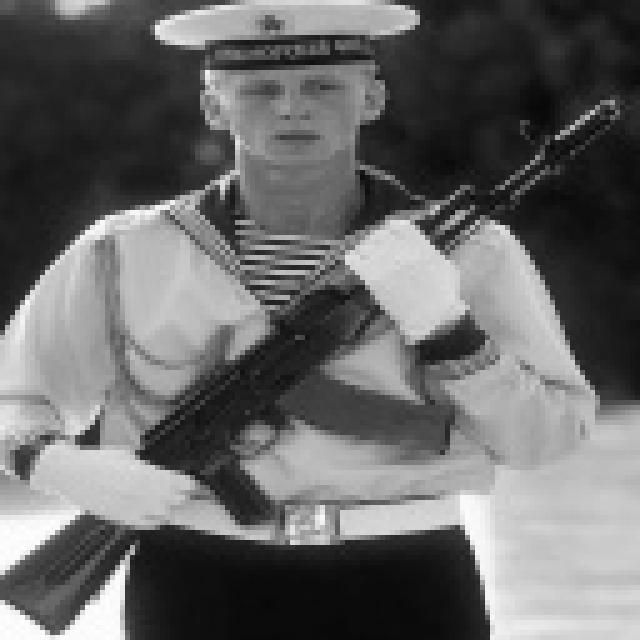Rifle: (0, 80, 639, 640)
